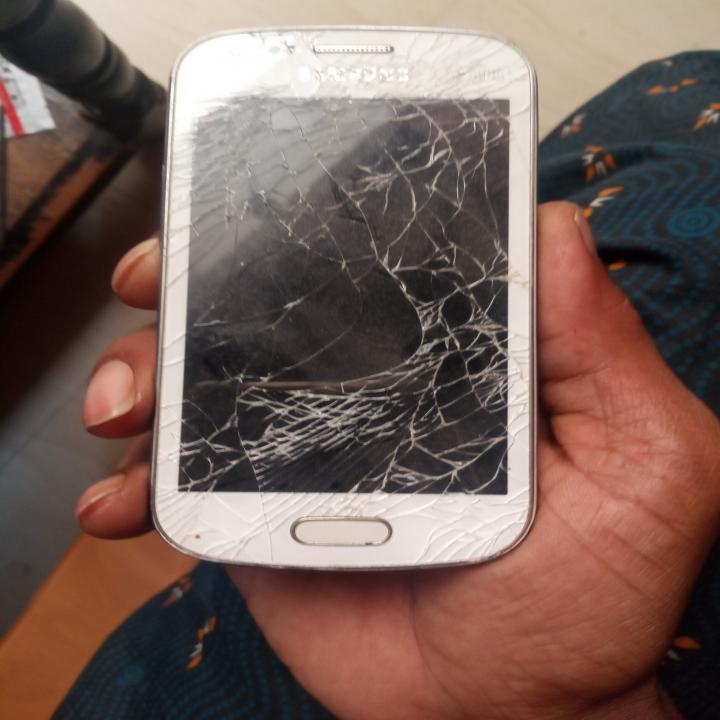Crack: (158, 226, 540, 560), (169, 25, 533, 226)
